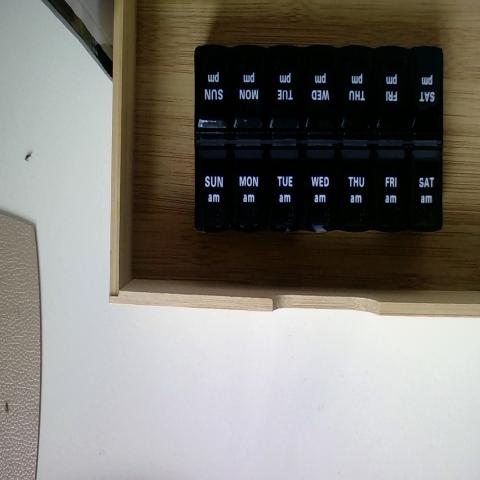FRI-am: (374, 142, 405, 230)
FRI-pm: (377, 50, 407, 134)
MON-am: (233, 140, 264, 228)
MON-pm: (229, 46, 268, 130)
SAT-am: (407, 136, 444, 232)
SAT-pm: (407, 46, 444, 138)
SUN-am: (194, 140, 229, 228)
SUN-pm: (195, 47, 229, 127)
THU-am: (338, 146, 372, 232)
THU-pm: (338, 48, 376, 134)
TUE-am: (267, 144, 301, 230)
TUE-pm: (268, 46, 303, 136)
WED-am: (304, 139, 335, 235)
WED-pm: (303, 47, 339, 137)
